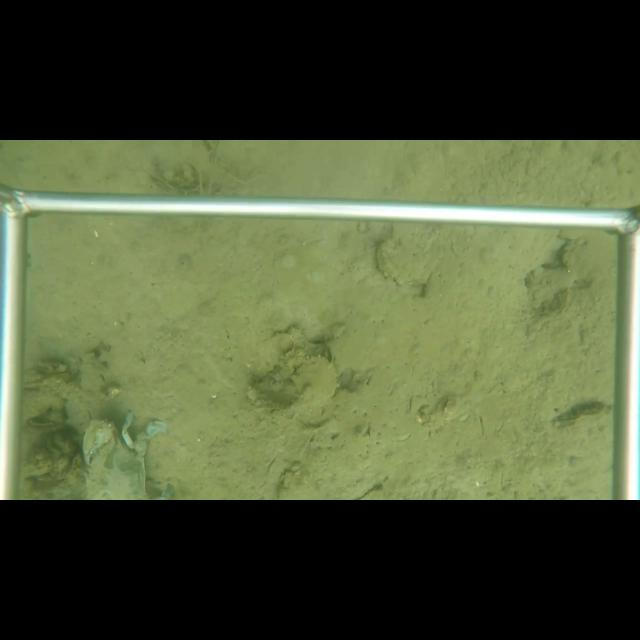Oyster-Closed: (373, 222, 453, 289), (250, 352, 340, 409), (547, 403, 611, 429)
